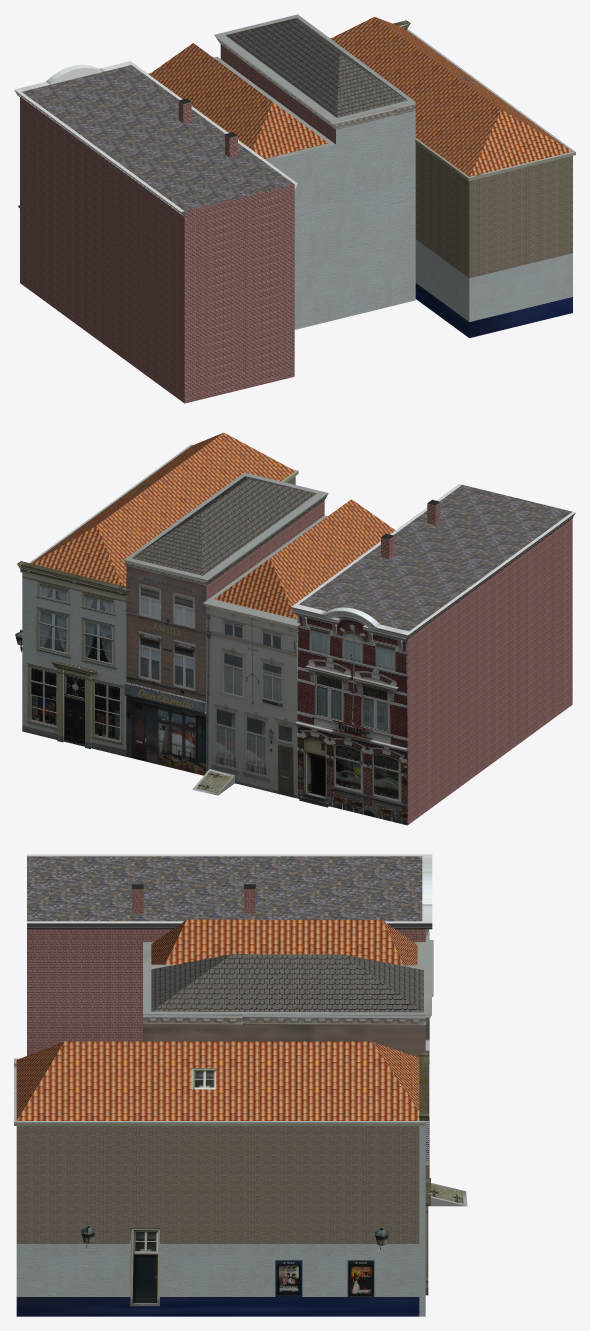
The model's file is TestBat.fbx.
The picture shows the model from 3 angles, top to bottom: view 1: azimuth 30°, elevation 25°; view 2: azimuth 150°, elevation 25°; view 3: azimuth 270°, elevation 25°; orthographic projection. The views are drawn at different scales.
Parts seen in each view (by area): view 1: group_2, group_4.005, group_2.008, group_6, group_6.006, group_4.004, group_4.001, group_6.002, group_6.005, group_2.003, group_4.006, group_4.007 (+3 smaller); view 2: group_2, group_2.003, group_2.008, group_4.002, group_4, group_6.004, group_6.006, group_4.004, group_4.001, group_4.006, group_4.007, group_6.016 (+5 smaller); view 3: group_6, group_6.006, group_2.008, group_4.001, group_2, group_6.012, group_4.004, group_4, group_6.005, group_6.002, group_2.003, group_6.011 (+6 smaller).
Boxes of the visible parts, x1=… form: group_2: x1=20, y1=97, x2=294, y2=403; group_4.005: x1=181, y1=110, x2=415, y2=329; group_2.008: x1=22, y1=65, x2=294, y2=210; group_6: x1=415, y1=143, x2=572, y2=278; group_6.006: x1=330, y1=16, x2=572, y2=176; group_4.004: x1=149, y1=43, x2=328, y2=158; group_4.001: x1=226, y1=18, x2=407, y2=117; group_6.002: x1=415, y1=239, x2=572, y2=321; group_6.005: x1=415, y1=283, x2=572, y2=337; group_2.003: x1=14, y1=61, x2=297, y2=217; group_4.006: x1=214, y1=14, x2=415, y2=122; group_4.007: x1=220, y1=44, x2=335, y2=144; group_2: x1=407, y1=518, x2=572, y2=824; group_2.003: x1=291, y1=484, x2=575, y2=825; group_2.008: x1=299, y1=485, x2=572, y2=631; group_4.002: x1=192, y1=515, x2=393, y2=798; group_4: x1=124, y1=493, x2=328, y2=775; group_6.004: x1=22, y1=571, x2=126, y2=756; group_6.006: x1=31, y1=432, x2=295, y2=586; group_4.004: x1=214, y1=499, x2=395, y2=619; group_4.001: x1=131, y1=476, x2=316, y2=575; group_4.006: x1=124, y1=472, x2=328, y2=580; group_4.007: x1=206, y1=500, x2=324, y2=600; group_6.016: x1=64, y1=670, x2=84, y2=746; group_6: x1=16, y1=1126, x2=419, y2=1243; group_6.006: x1=16, y1=1041, x2=419, y2=1120; group_2.008: x1=27, y1=856, x2=422, y2=921; group_4.001: x1=151, y1=954, x2=423, y2=1012; group_2: x1=27, y1=908, x2=425, y2=1055; group_6.012: x1=160, y1=1126, x2=425, y2=1316; group_4.004: x1=151, y1=919, x2=417, y2=965; group_4: x1=143, y1=1014, x2=431, y2=1177; group_6.005: x1=16, y1=1297, x2=419, y2=1316; group_6.002: x1=16, y1=1244, x2=130, y2=1296; group_2.003: x1=27, y1=854, x2=432, y2=1063; group_6.011: x1=130, y1=1228, x2=159, y2=1306.
Bounding box in the file's own units: 5319 × 2809 × 5164.
35 materials, 33 textured.
